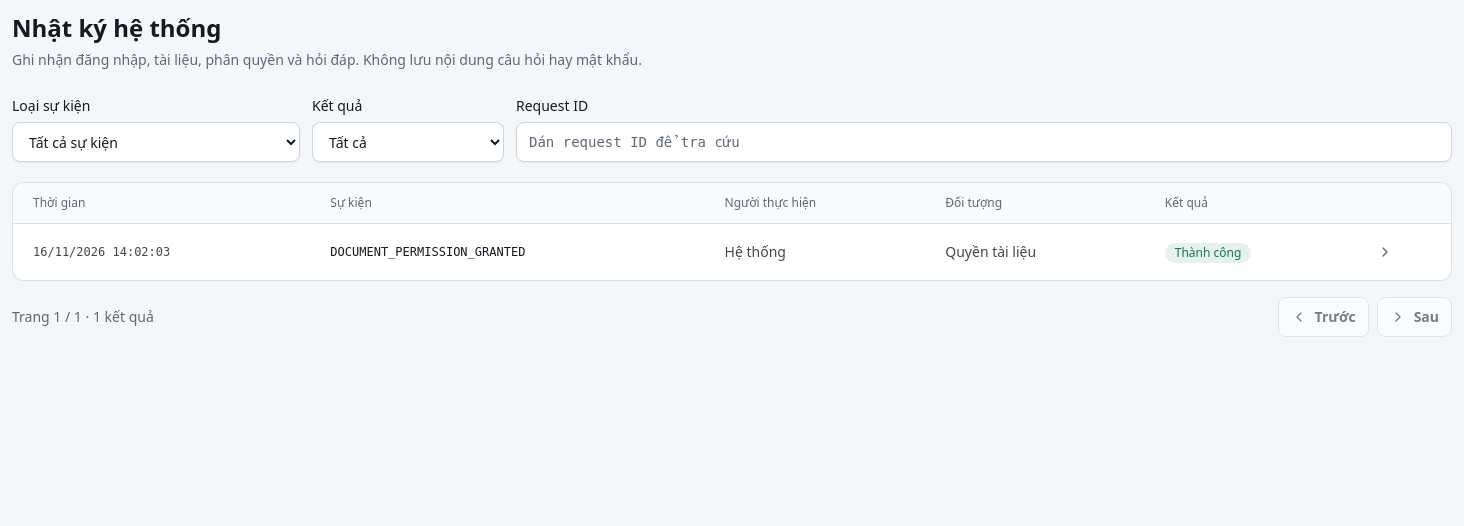
Test: AuditLogsPage › shows a row's safe details on demand, never an IP address
Expected: the text "16/11/2026 14:02:03" is shown, [13,224,310,280]
Expected: the text "Hệ thống" is shown, [705,224,925,280]
Click the button named "Xem chi tiết".
click(1385, 252)  # box [1369,236,1401,268]
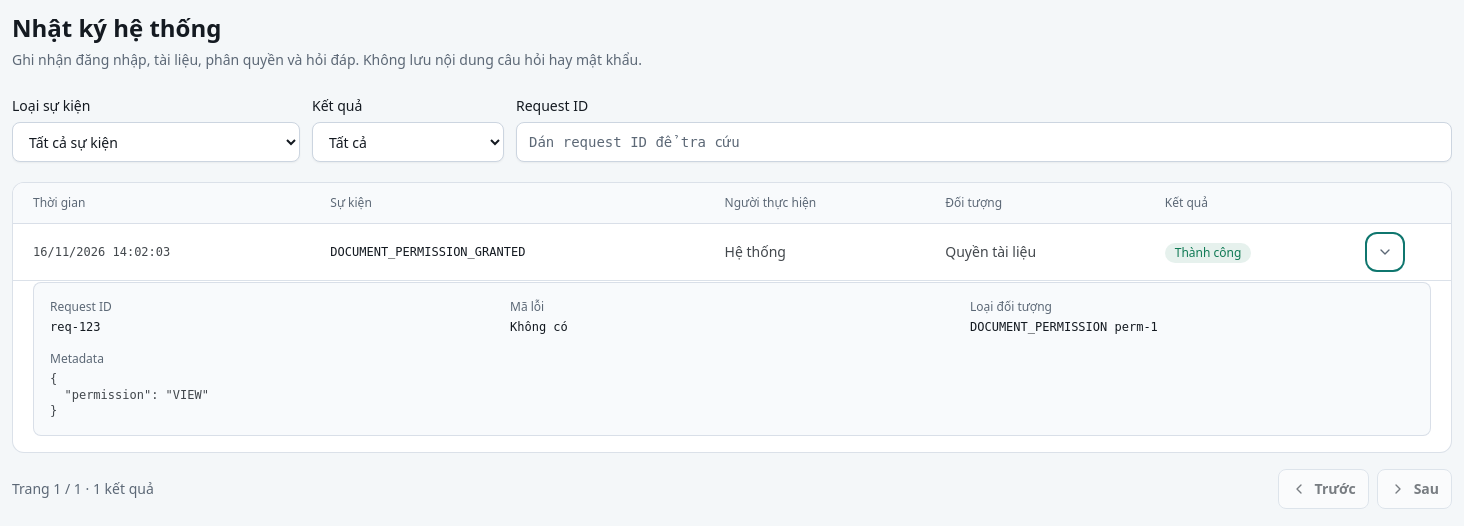
Expected: the text "req-123" is shown, [50,320,101,334]
